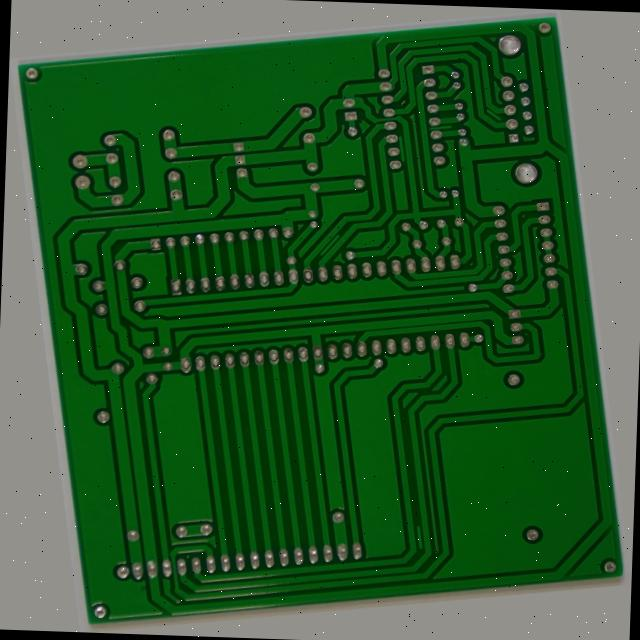spurious_copper: (328, 225, 361, 254), (543, 105, 566, 129), (436, 126, 451, 159), (476, 116, 507, 131), (390, 556, 400, 586)
